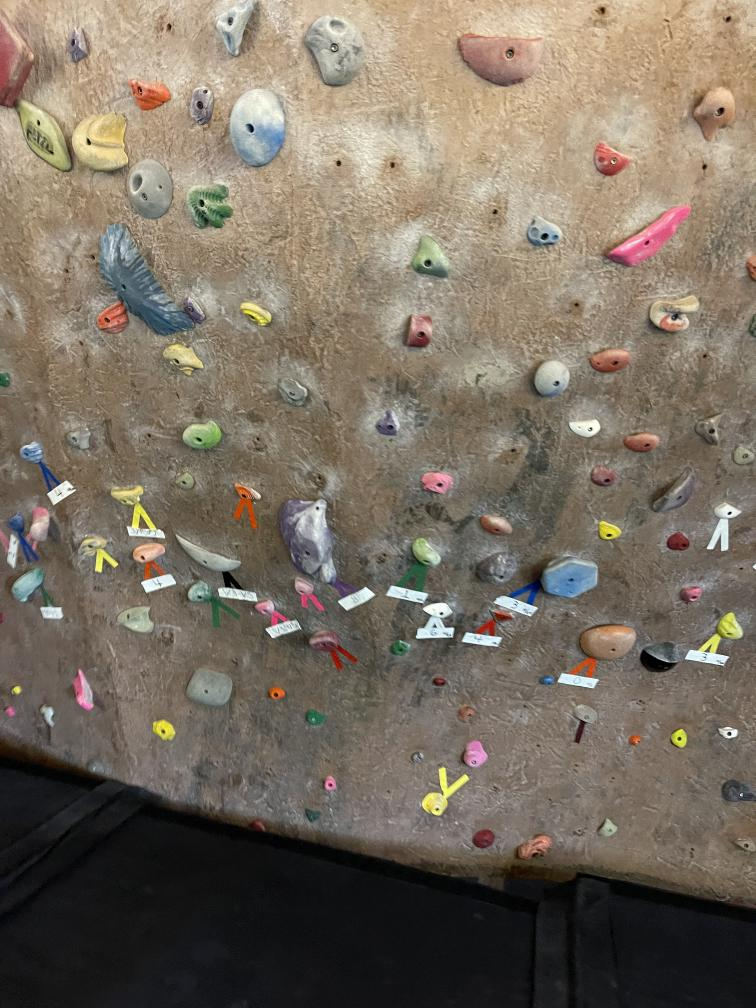Crimp: (127, 76, 180, 114), (592, 140, 635, 180), (523, 214, 566, 249), (90, 302, 131, 334), (189, 85, 218, 130), (694, 410, 730, 444), (62, 28, 96, 64), (278, 373, 310, 408), (374, 407, 404, 440), (718, 610, 747, 643), (417, 470, 454, 495), (172, 466, 200, 494), (18, 442, 51, 464), (183, 294, 207, 324), (664, 529, 695, 552), (569, 418, 603, 438), (4, 508, 28, 536), (596, 518, 625, 541), (236, 481, 265, 502), (713, 501, 741, 522), (733, 443, 756, 466), (572, 706, 598, 724), (488, 608, 513, 624), (457, 705, 476, 726), (423, 602, 451, 616)
Edges: (605, 201, 698, 269), (453, 27, 550, 86), (14, 99, 71, 172), (173, 530, 243, 575), (10, 566, 46, 606)
Foothold: (149, 715, 178, 743), (732, 833, 756, 854), (39, 702, 56, 730), (304, 708, 328, 727), (474, 830, 494, 852), (248, 814, 270, 834), (718, 724, 741, 743), (302, 806, 326, 824), (599, 819, 620, 839), (672, 728, 690, 749), (85, 760, 107, 775), (394, 640, 412, 657), (410, 749, 426, 766), (536, 675, 559, 686), (268, 686, 285, 700), (322, 775, 337, 790), (9, 682, 25, 696), (434, 677, 452, 688), (628, 736, 644, 748), (6, 704, 16, 719)
Hand-holds: (279, 495, 342, 583), (306, 15, 370, 92), (650, 289, 704, 336), (718, 775, 756, 803), (64, 424, 92, 452), (186, 582, 212, 608), (290, 576, 316, 600), (253, 599, 282, 616)
Jug: (70, 110, 131, 177), (0, 8, 36, 110), (693, 78, 742, 143), (182, 180, 244, 230), (543, 550, 600, 604), (205, 0, 254, 58), (582, 617, 632, 673), (649, 466, 698, 516), (409, 233, 451, 283), (184, 666, 232, 705), (160, 343, 203, 375), (591, 346, 634, 378), (409, 535, 447, 571), (180, 424, 225, 454), (474, 508, 519, 537), (71, 530, 113, 559), (23, 501, 53, 541), (70, 670, 97, 712), (240, 300, 275, 330), (109, 484, 152, 504), (625, 430, 660, 454), (462, 736, 488, 768), (421, 791, 451, 818), (310, 630, 342, 652), (680, 584, 707, 604), (0, 370, 14, 392)
Pinch: (402, 313, 435, 350), (131, 542, 168, 565)
Pocket: (123, 157, 176, 218)
Sloper: (94, 221, 197, 336), (226, 88, 286, 170), (529, 360, 577, 399), (640, 635, 681, 675), (112, 603, 162, 635), (478, 549, 519, 587), (515, 834, 551, 860), (590, 468, 618, 488)
